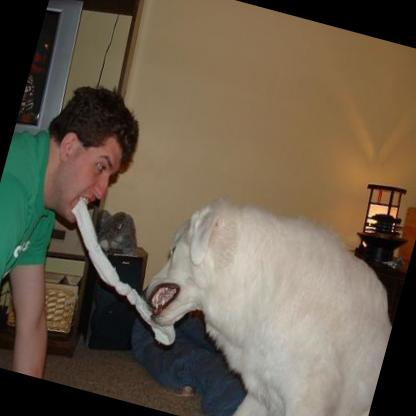Great_Pyrenees: (110, 178, 412, 416)
